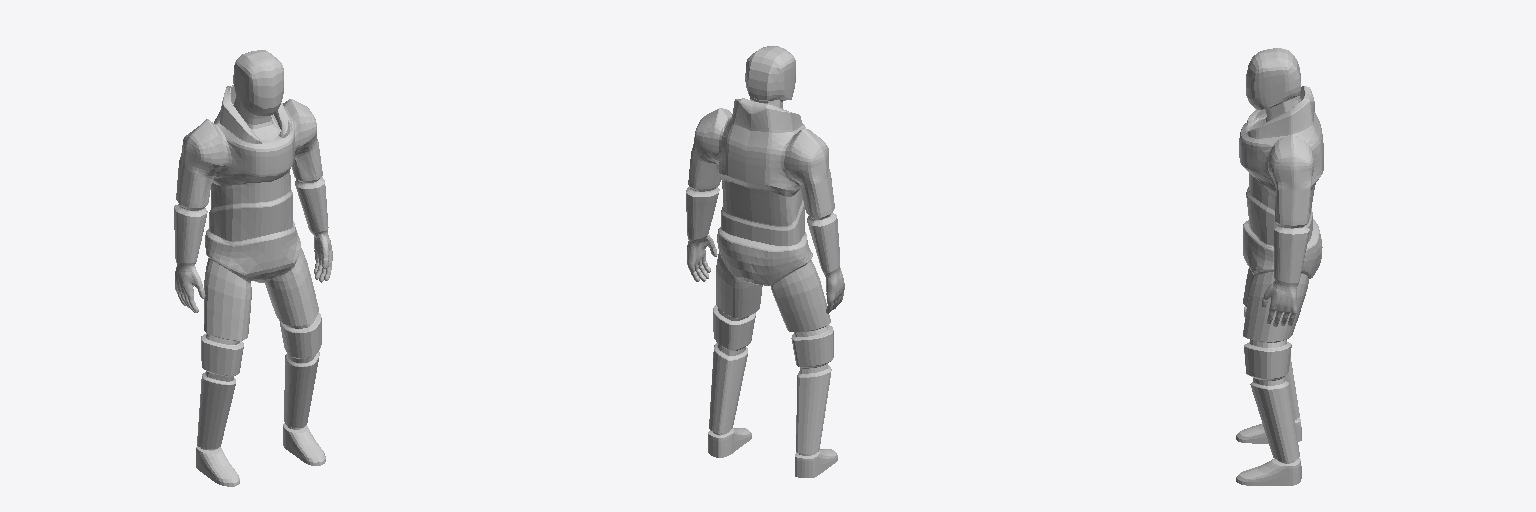
File: xkill_process.obj
The picture shows the model from 3 angles: view 1: azimuth 30°, elevation 25°; view 2: azimuth 150°, elevation 25°; view 3: azimuth 270°, elevation 25°; orthographic projection.
Parts seen in each view (by area): view 1: Cube.001_Cube.000; view 2: Cube.001_Cube.000; view 3: Cube.001_Cube.000.
Part boxes in pixels (x1,y1,x2,y2): Cube.001_Cube.000: (174,50,332,486); Cube.001_Cube.000: (686,46,844,477); Cube.001_Cube.000: (1236,48,1323,485).
Bounding box in the file's own units: 0.4077 × 1.06 × 0.2091.